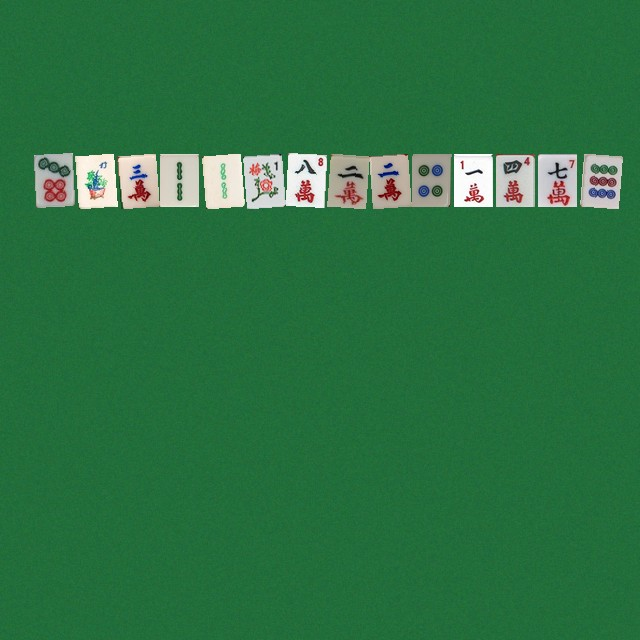tile: (33, 153, 72, 206), (75, 153, 114, 206), (117, 153, 156, 206), (159, 153, 198, 206), (201, 153, 240, 206), (243, 153, 282, 206), (285, 153, 324, 206), (327, 153, 366, 206), (369, 153, 408, 206), (411, 153, 450, 206), (453, 153, 492, 206), (495, 153, 534, 206), (537, 153, 576, 206), (579, 153, 618, 206)
